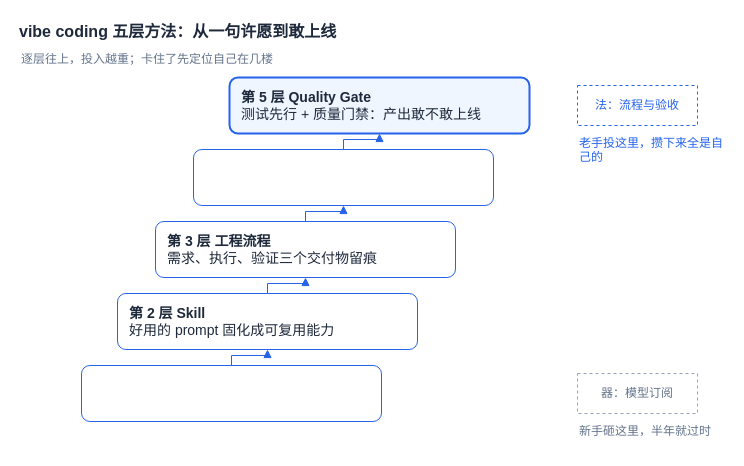
The diagram is 744 pixels wide and 466 high, and some of its shapes have lost their labels. The shapes that lost their labels are listed below. From the top down, each one's box as (x1, y1, x2, y2) in pixels, then its label:
(192, 148, 494, 206): 第 4 层 Context 上下文当消耗品管：喂对料，省 token
(80, 364, 382, 422): 第 1 层 Prompt 一句话许愿 → 意图/上下文/模板/参数/反馈/迭代
